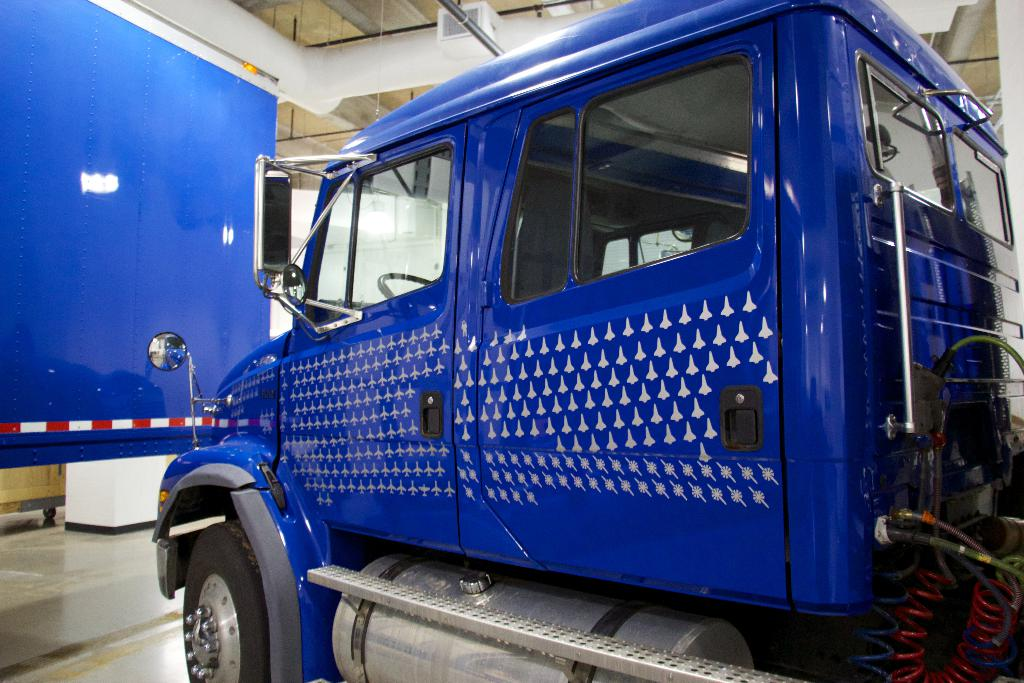truck: (118, 5, 1024, 683)
